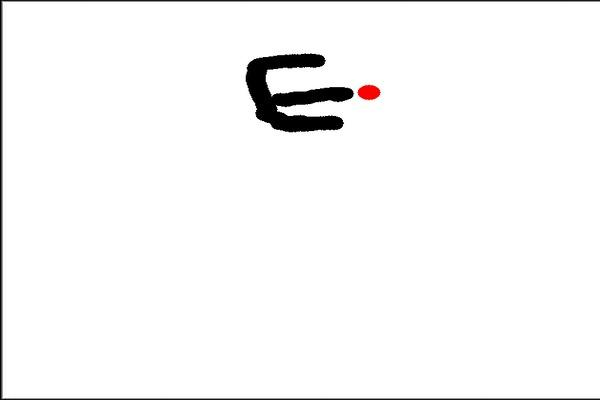E: (242, 46, 358, 137)
